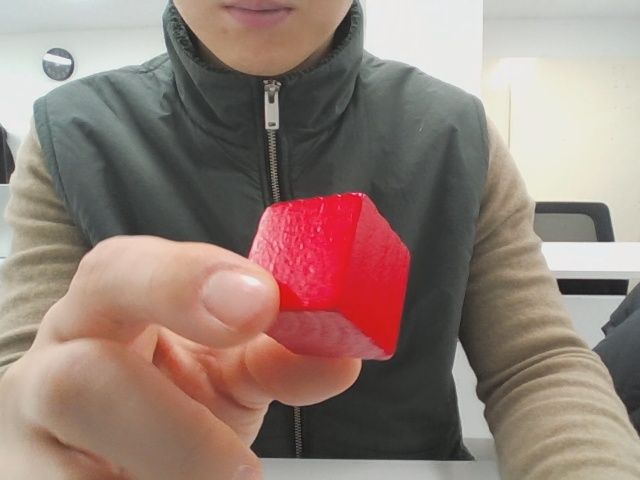normal: (234, 175, 417, 370), (251, 259, 263, 263)
